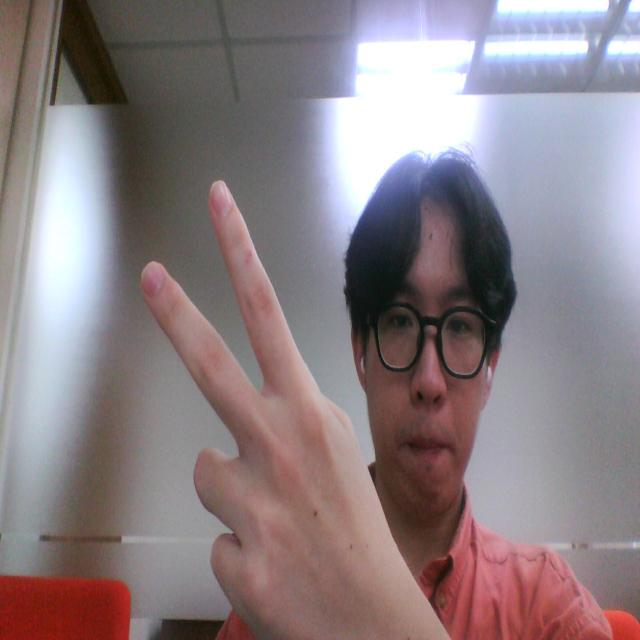Scissors: (120, 146, 363, 630)
